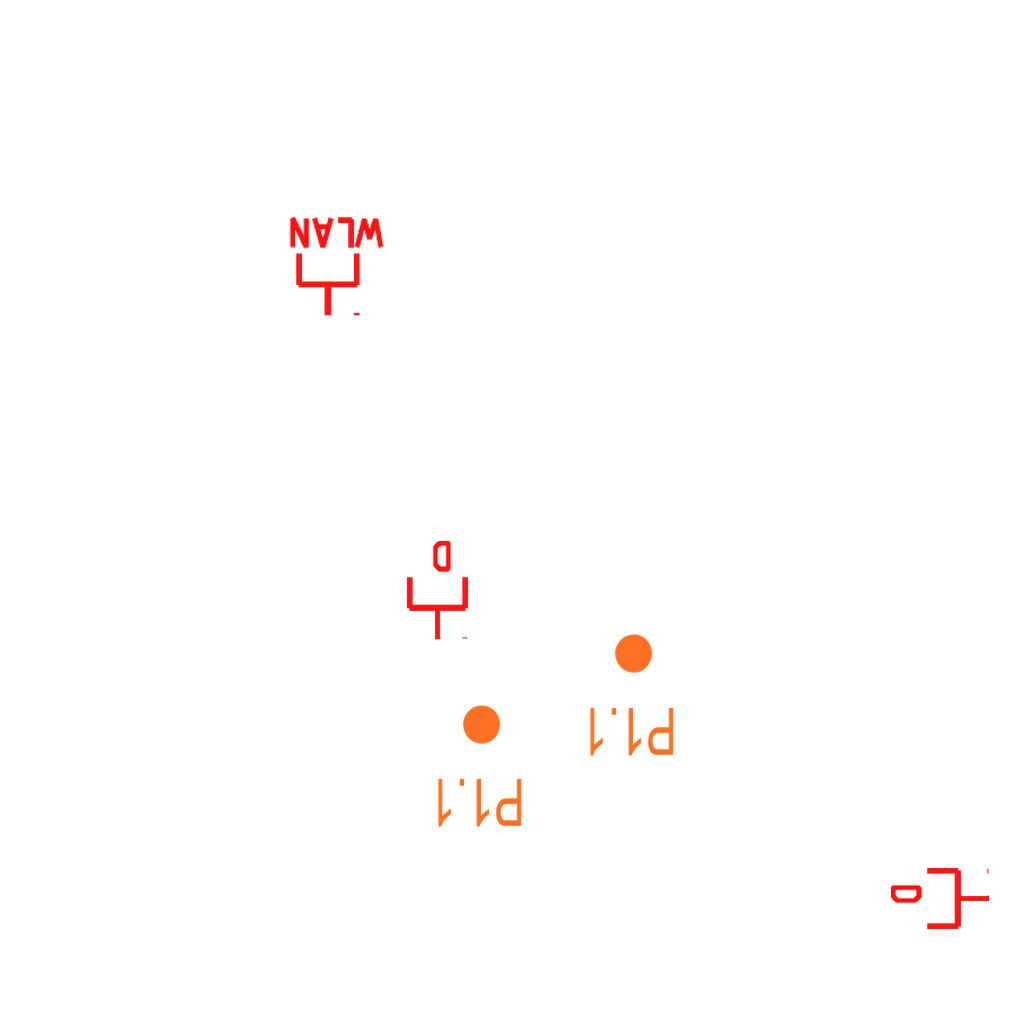Datenanschluss_einfach: (403, 541, 472, 641), (891, 864, 991, 933)
Downlight_LED_Einbauleuchten_Flur: (432, 702, 525, 830), (584, 631, 677, 759)
WLAN: (285, 215, 389, 320)
